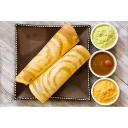dosa: (19, 25, 90, 99)
